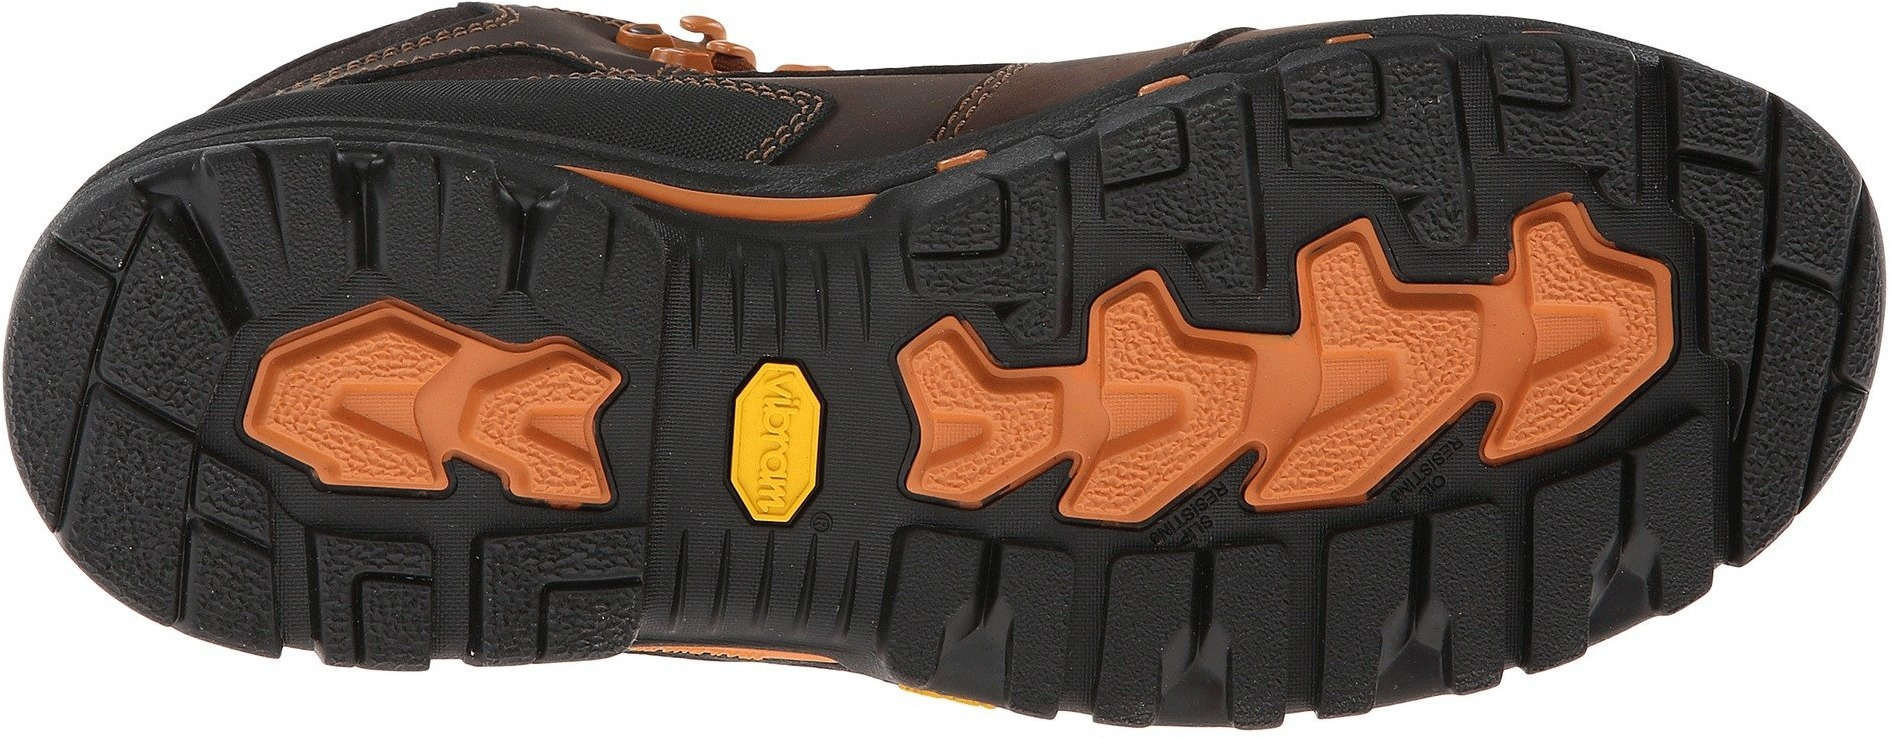chevron: (1062, 169, 1485, 541), (882, 309, 1072, 523), (455, 320, 644, 521)
line: (681, 233, 810, 359)
text: (716, 361, 857, 525)
